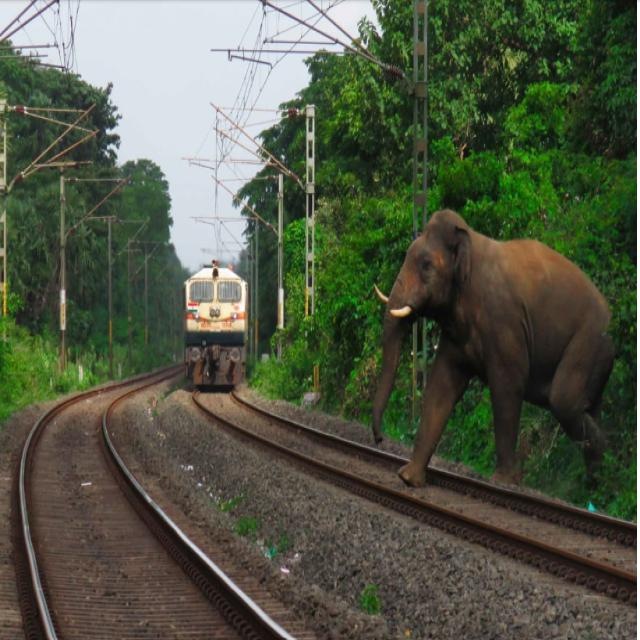Elephant: (358, 196, 628, 518)
